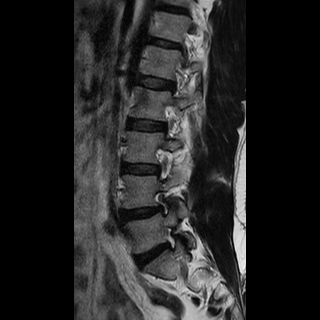RFS1: (150, 183, 174, 221)
